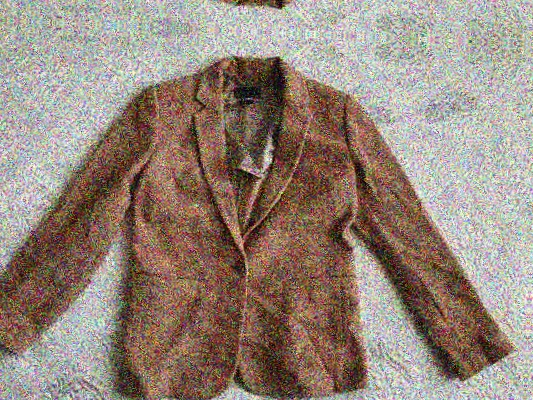Blazer: (0, 39, 523, 400), (0, 0, 533, 24)
